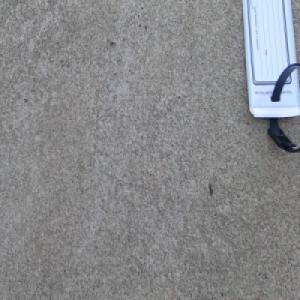LuggageTag: (241, 0, 300, 155)
